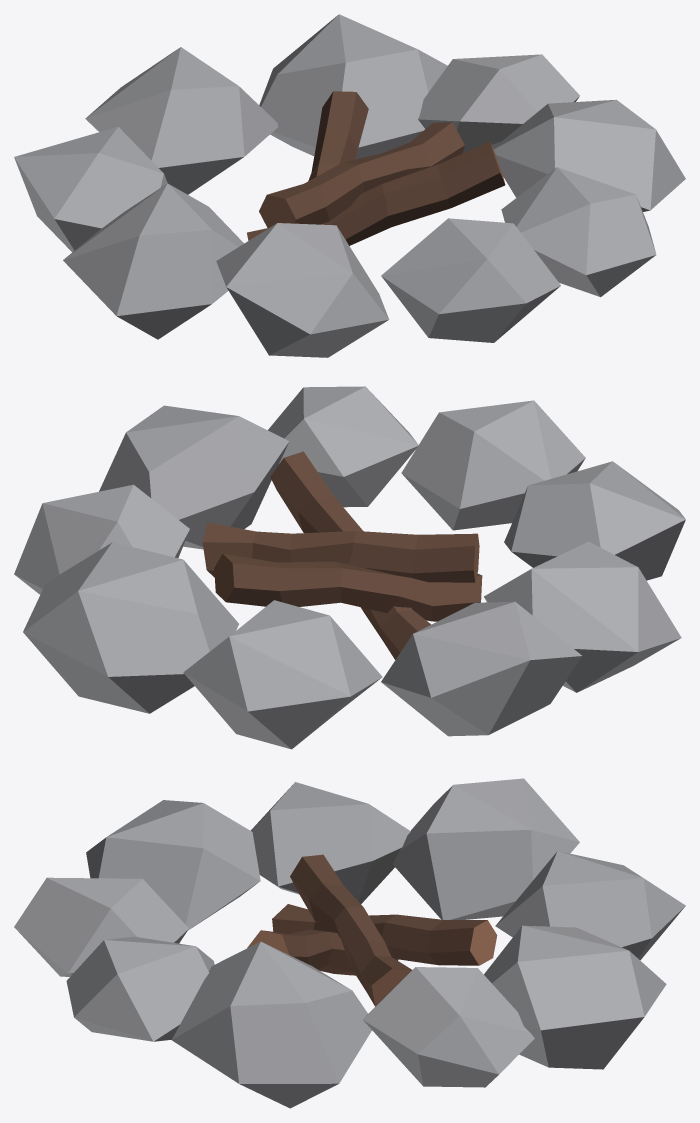
Rendered from Campfire.fbx.
3 renders of one model, top to bottom at view 1: azimuth 30°, elevation 25°; view 2: azimuth 150°, elevation 25°; view 3: azimuth 270°, elevation 25°, orthographic. The views are drawn at different scales.
Parts seen in each view (by area): view 1: Campfire; view 2: Campfire; view 3: Campfire.
Boxes of the visible parts, x1,y1,x2,y2 form: Campfire: [14, 14, 685, 357]; Campfire: [14, 386, 685, 749]; Campfire: [14, 778, 685, 1108].
Bounding box in the file's own units: 99.93 × 24.98 × 104.
